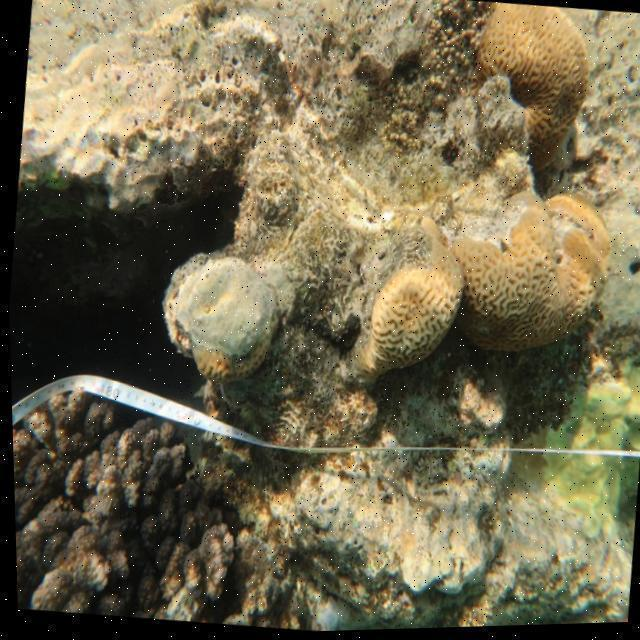Healthy Coral: (451, 178, 620, 347), (334, 220, 470, 411), (461, 1, 611, 162)
